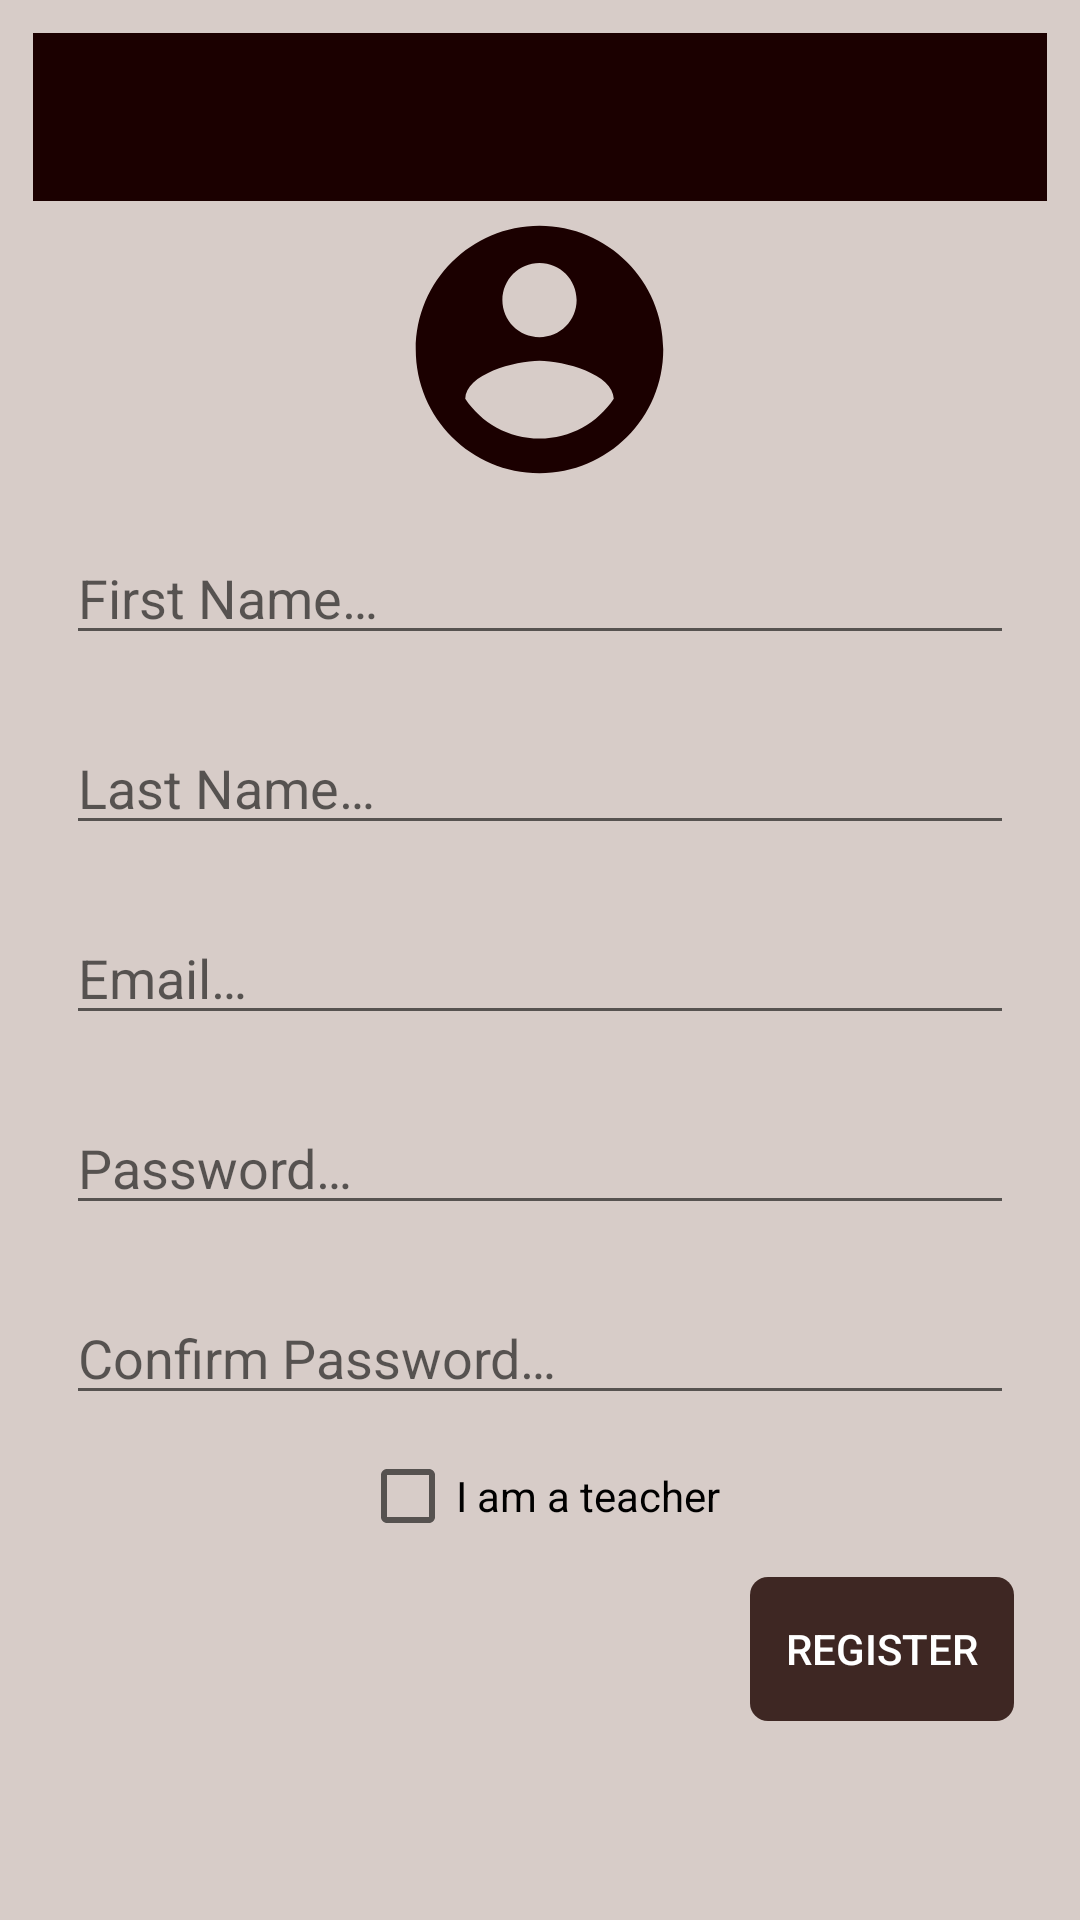

Where icons sit on this 1080×1920 app screen, as {"x1": x1, "y1": y1, "x2": x2, "y2": y2}:
account circle: {"x1": 415, "y1": 225, "x2": 664, "y2": 474}
